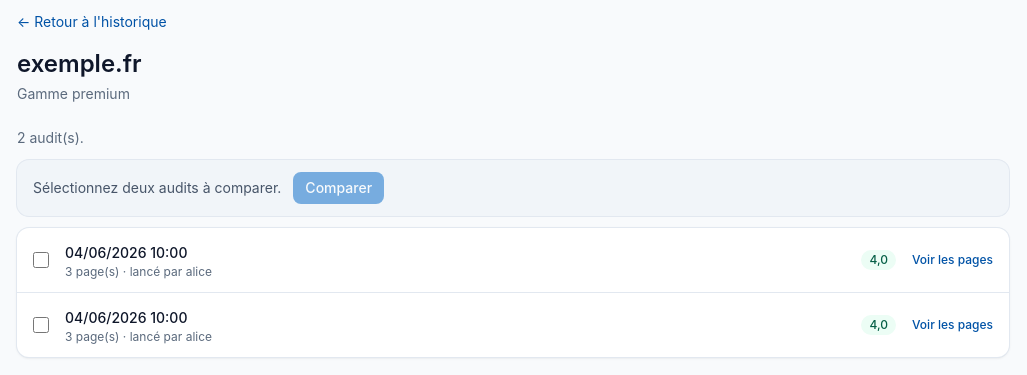
Scenario: SiteSessionsComponent › sélection › permet de désélectionner
Click the 1st checkbox labelled "04/06/2026 10:00 3 page(s) · lancé par alice" at (41, 260), box [33,252,49,268]
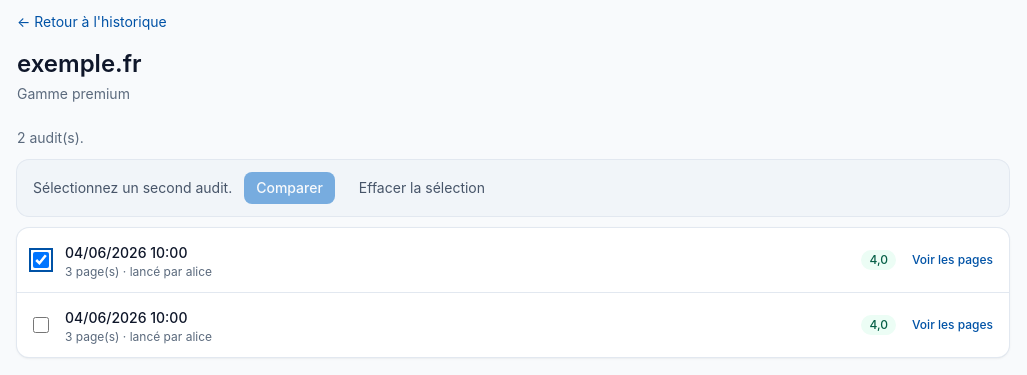
Click the 1st checkbox labelled "04/06/2026 10:00 3 page(s) · lancé par alice" at (41, 260), box [33,252,49,268]
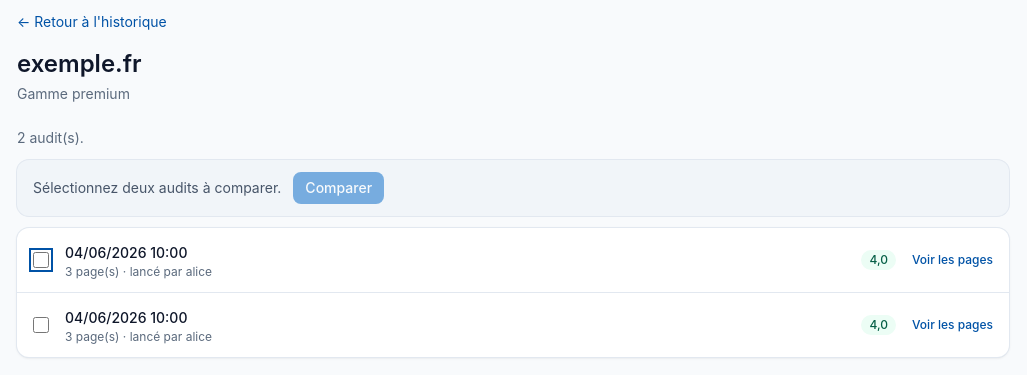
Expected: the text "Sélectionnez deux audits à comparer." is shown, [33,178,281,198]
